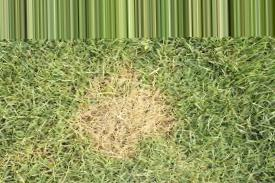patch: (89, 69, 149, 137)
